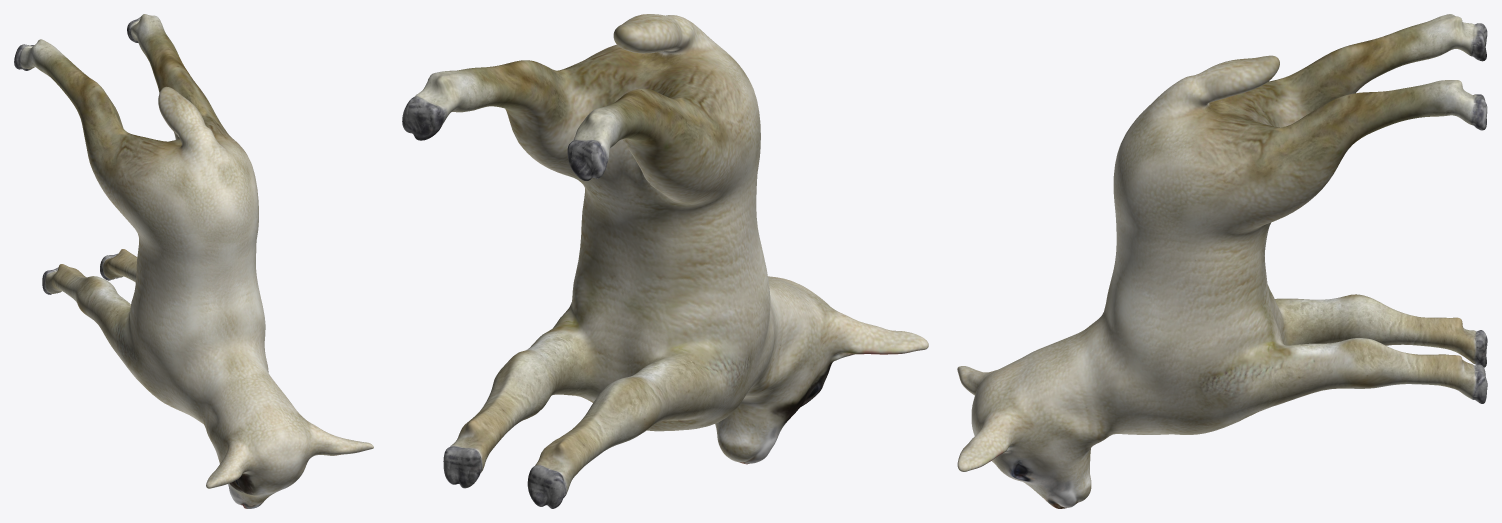
File: 12955_Lamb_v1_l2.obj
3 views of the same model, side by side, from view 1: azimuth 30°, elevation 25°; view 2: azimuth 150°, elevation 25°; view 3: azimuth 270°, elevation 25° (orthographic). The views are drawn at different scales.
Parts seen in each view (by area): view 1: 12955_Lamb; view 2: 12955_Lamb; view 3: 12955_Lamb.
Boxes of the visible parts, bbox=[...] form: 12955_Lamb: bbox=[14, 14, 373, 508]; 12955_Lamb: bbox=[402, 14, 928, 508]; 12955_Lamb: bbox=[957, 14, 1487, 508].
Bounding box in the file's own units: 39.9 × 83.76 × 87.72.
Materials: 1 (1 with a texture image).
